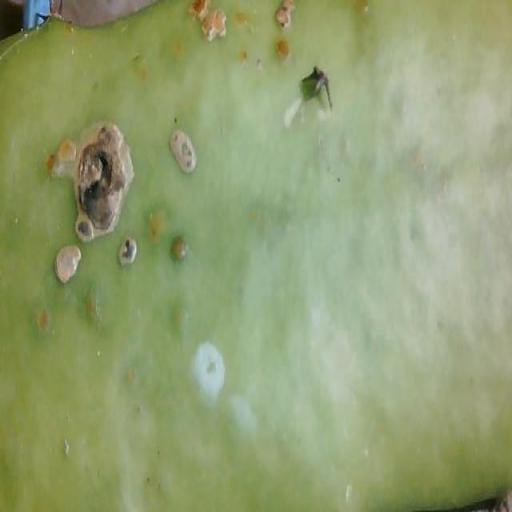stemcanker: (166, 311, 238, 462), (247, 438, 286, 507)
